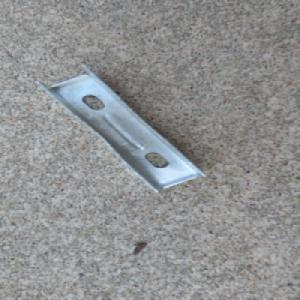ClampPart: (34, 63, 210, 193)
